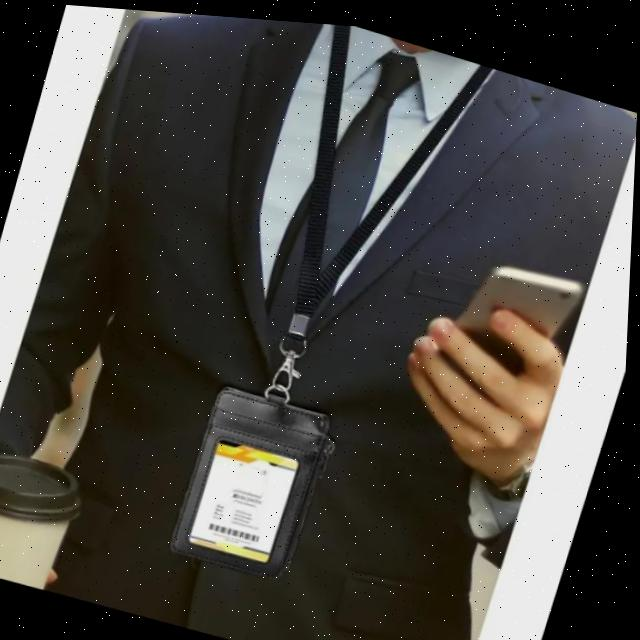id_card: (169, 11, 492, 608)
